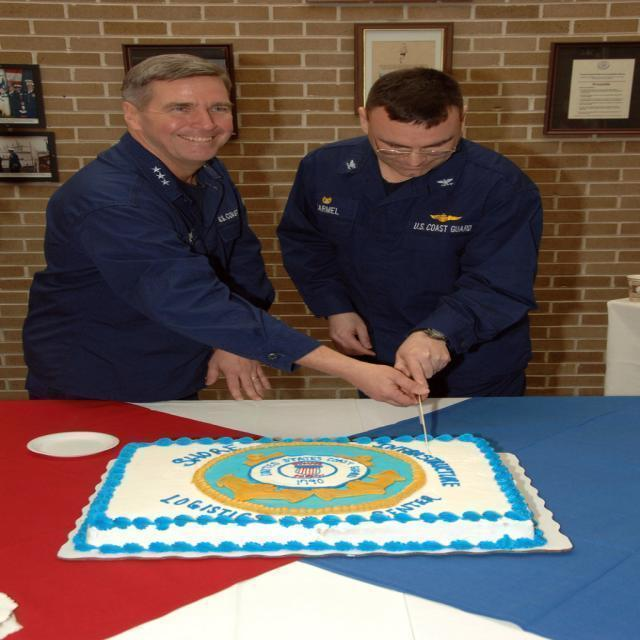Cake: (70, 434, 546, 550)
